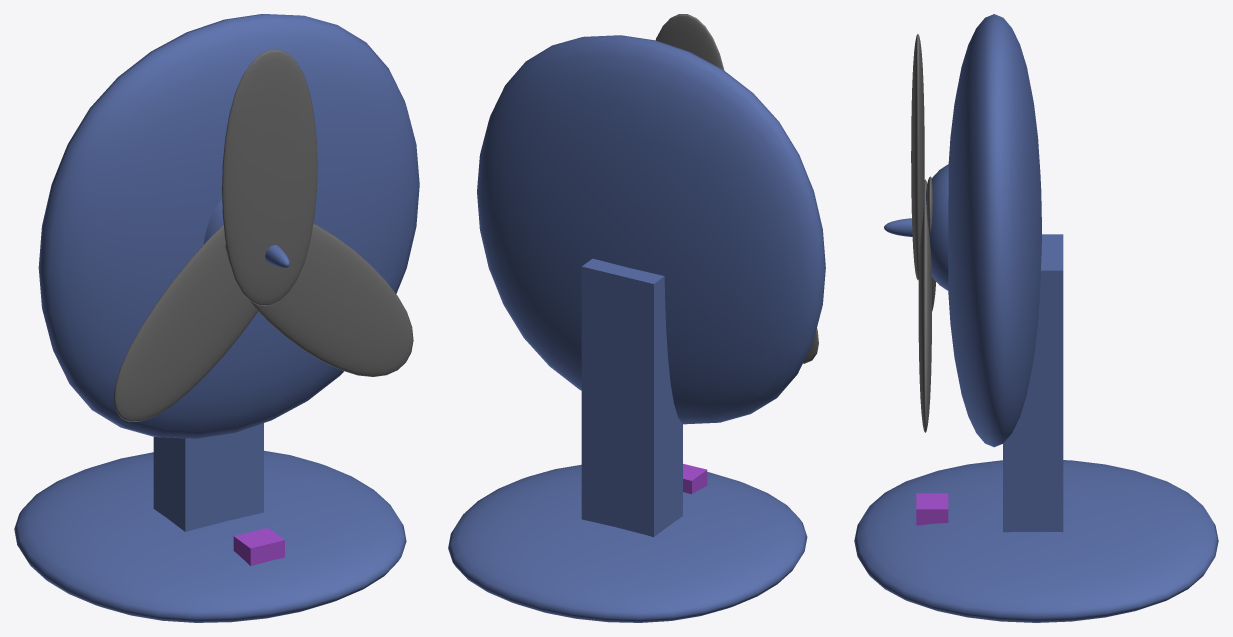
Rendered from fanmodel.fbx.
The picture shows the model from 3 angles, left to right: view 1: azimuth 30°, elevation 25°; view 2: azimuth 150°, elevation 25°; view 3: azimuth 270°, elevation 25°; orthographic projection. The views are drawn at different scales.
Visible parts, largest first — view 1: pCube3, pCube1, pCube8, pCube6, pCube7, pCube2, pCube9; view 2: pCube3, pCube1, pCube2, pCube8, pCube9; view 3: pCube1, pCube3, pCube2, pCube8, pCube7, pCube4, pCube9.
Boxes of the visible parts, x1,y1,x2,y2 form: pCube3: (38, 14, 419, 438); pCube1: (14, 450, 406, 622); pCube8: (222, 49, 317, 305); pCube6: (113, 225, 258, 421); pCube7: (225, 223, 413, 376); pCube2: (153, 423, 263, 531); pCube9: (233, 528, 284, 565); pCube3: (477, 35, 825, 424); pCube1: (448, 464, 807, 622); pCube2: (581, 258, 682, 537); pCube8: (656, 14, 724, 70); pCube9: (683, 464, 707, 494); pCube1: (854, 460, 1218, 622); pCube3: (948, 14, 1041, 447); pCube2: (1003, 234, 1063, 532); pCube8: (911, 34, 924, 279); pCube7: (918, 179, 931, 432); pCube4: (926, 164, 948, 290); pCube9: (916, 493, 948, 525).
Bounding box in the file's own units: 0.8342 × 1.18 × 0.7374.
